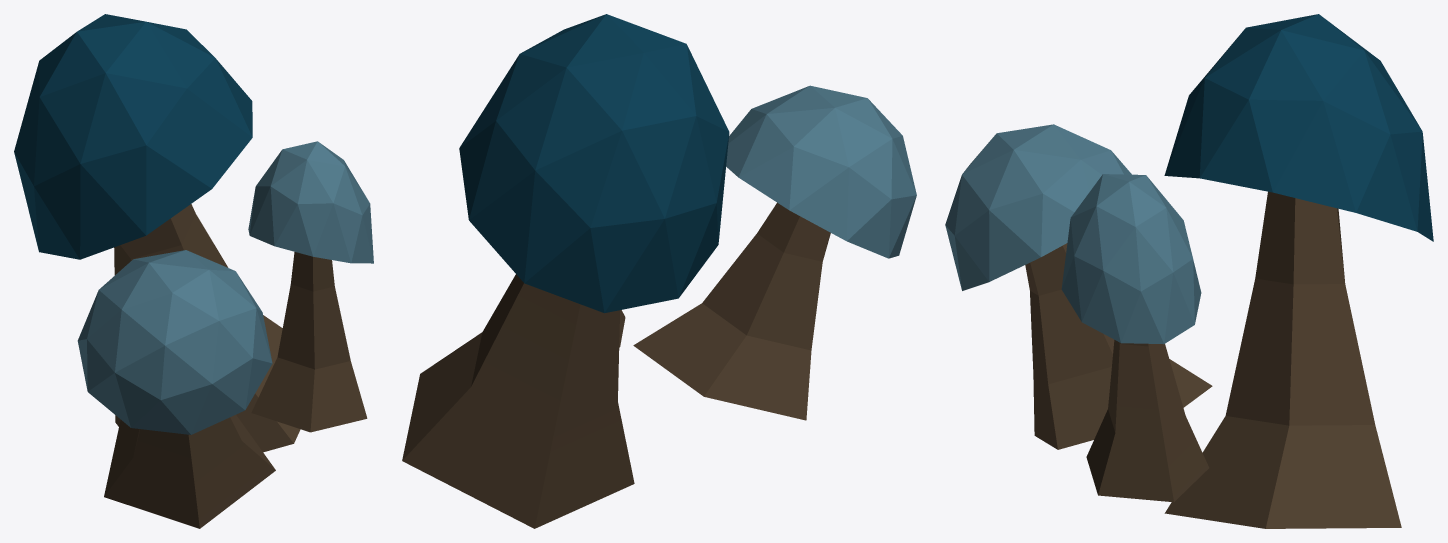
File: Mushrooms1.glb
3 views of the same model, side by side, from view 1: azimuth 30°, elevation 25°; view 2: azimuth 150°, elevation 25°; view 3: azimuth 270°, elevation 25° (orthographic). The views are drawn at different scales.
Parts seen in each view (by area): view 1: Mushroom_5, Mushroom_0, Mushroom_0__1_; view 2: Mushroom_5, Mushroom_0; view 3: Mushroom_5, Mushroom_0__1_, Mushroom_0.
Boxes of the visible parts, x1=… form: Mushroom_5: x1=14, y1=14, x2=300, y2=452; Mushroom_0: x1=77, y1=250, x2=275, y2=528; Mushroom_0__1_: x1=248, y1=141, x2=373, y2=432; Mushroom_5: x1=402, y1=14, x2=729, y2=528; Mushroom_0: x1=633, y1=85, x2=916, y2=420; Mushroom_5: x1=1164, y1=14, x2=1433, y2=528; Mushroom_0__1_: x1=1061, y1=174, x2=1209, y2=502; Mushroom_0: x1=945, y1=124, x2=1212, y2=449.
Bounding box in the file's own units: 0.0212 × 0.0265 × 0.0247.
Materials: 1 (1 with a texture image).
